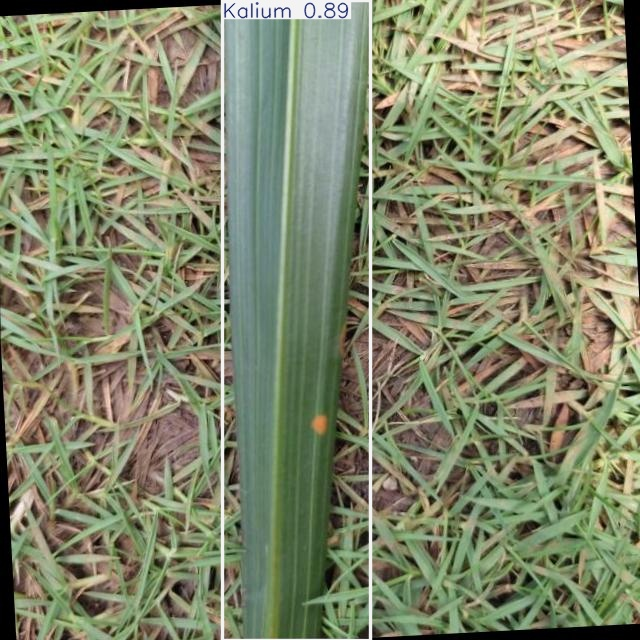Kalium: (223, 1, 371, 640)
